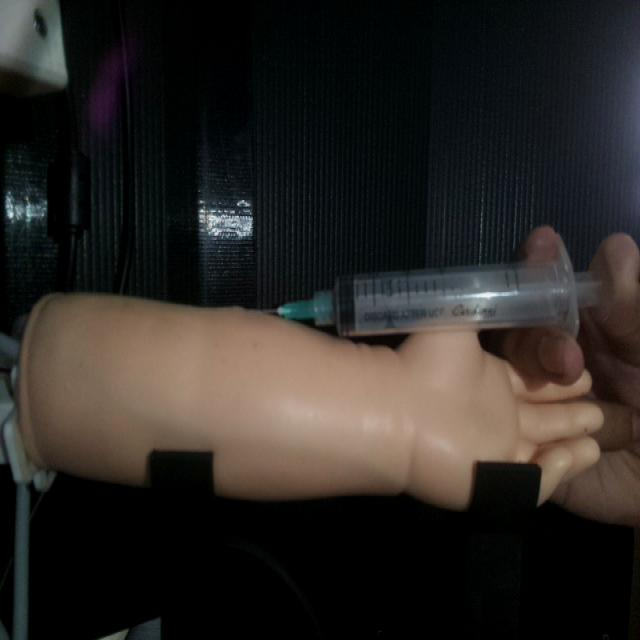Below 15 degrees: (262, 238, 604, 342)
